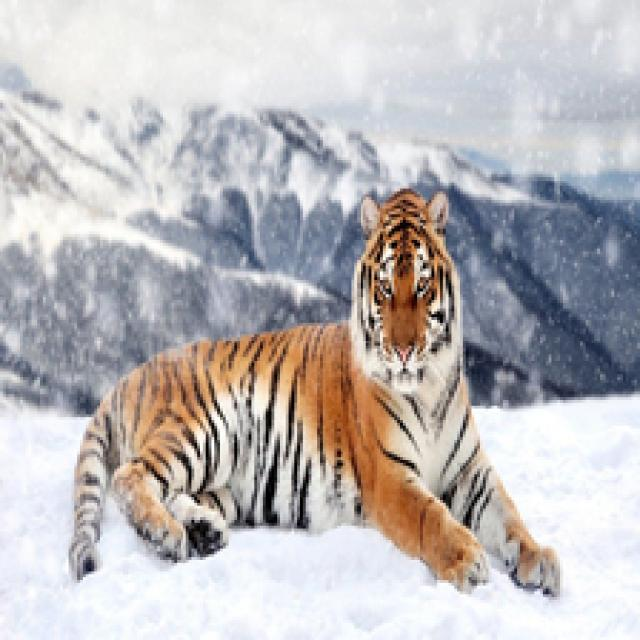tiger: (52, 178, 576, 616)
